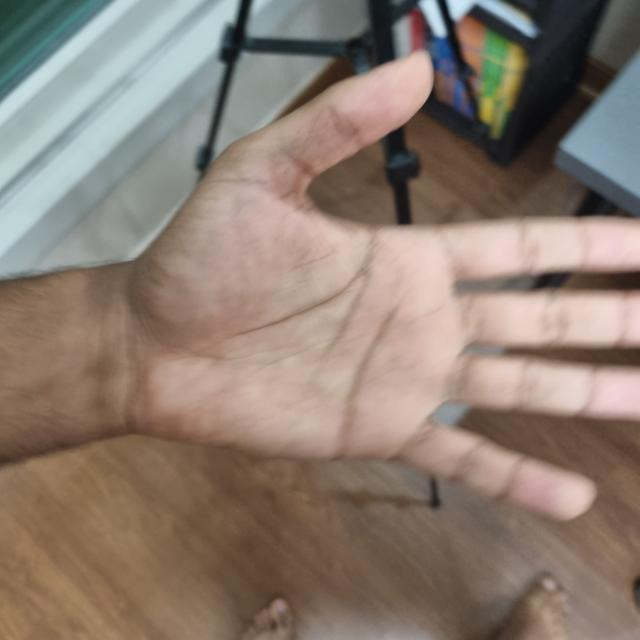Paper: (129, 62, 640, 515)
